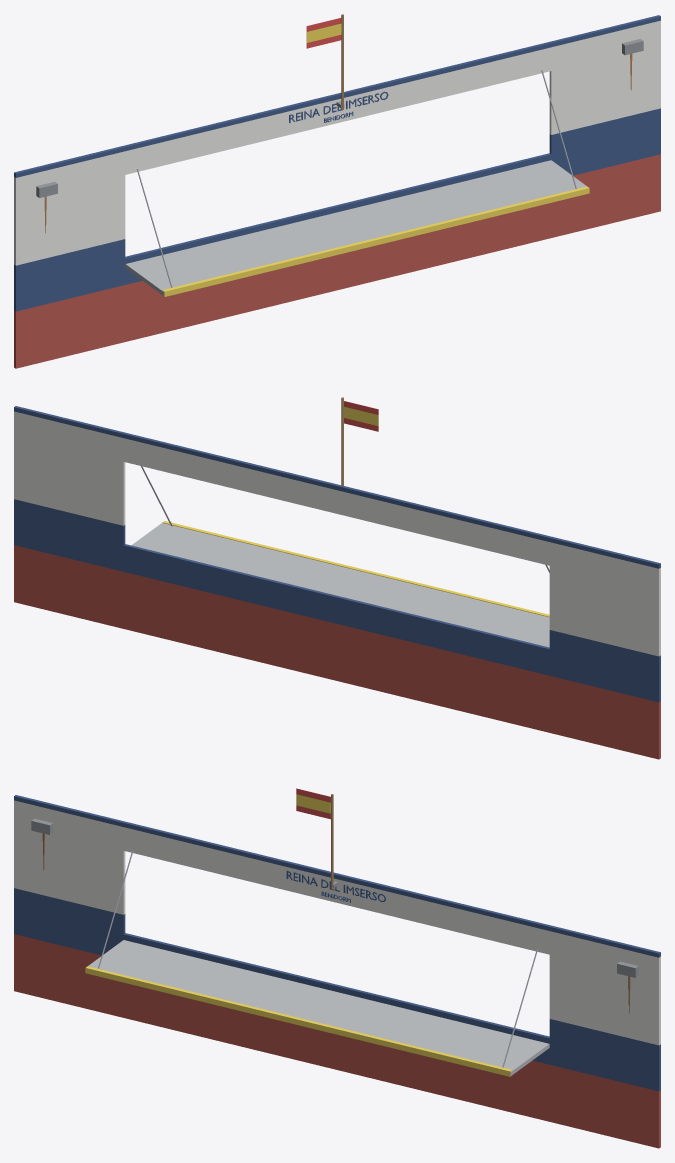
The model's file is CR_Popa.fbx.
3 views of the same model, one above another, from view 1: azimuth 30°, elevation 25°; view 2: azimuth 150°, elevation 25°; view 3: azimuth 330°, elevation 25° (orthographic).
Parts seen in each view (by area): view 1: CR_Popa; view 2: CR_Popa; view 3: CR_Popa.
Part boxes in pixels (x1,y1,x2,y2): CR_Popa: [14, 14, 660, 368]; CR_Popa: [14, 397, 660, 759]; CR_Popa: [14, 788, 660, 1148].
Size of the model in its own units: 24.24 by 10 by 2.64.
